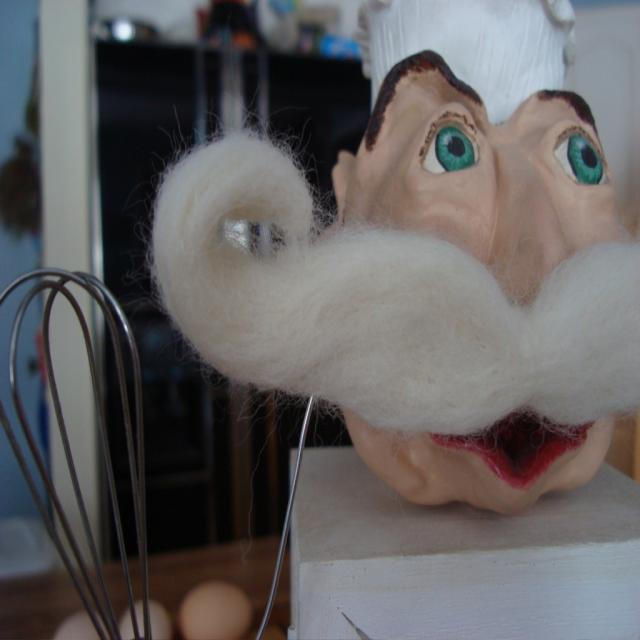Toy: (136, 0, 640, 541)
